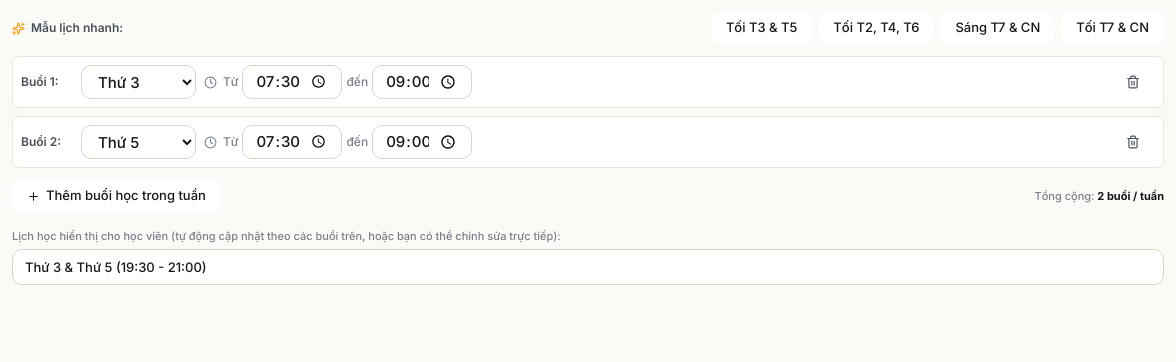
Scenario: LiveSchedulePicker UI interaction › allows adding a new session slot
Step 1. Click the button "Thêm buổi học trong tuần" → click(116, 196), box [12,180,221,212]
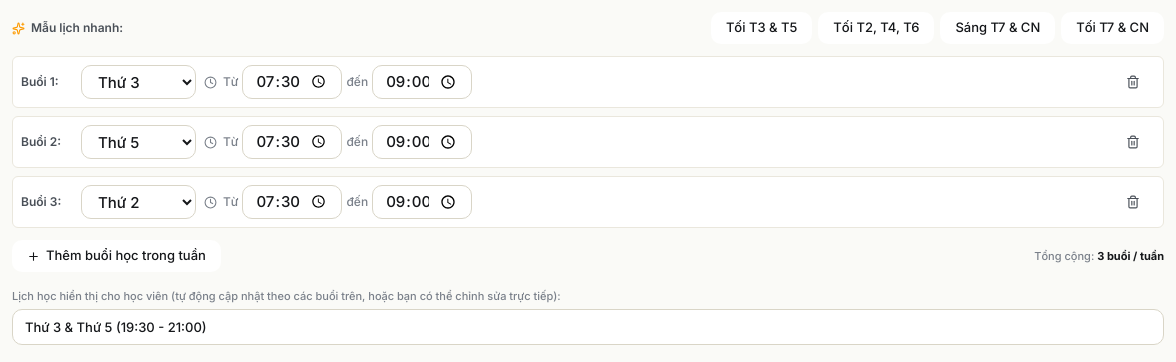
Expected: the text "Buổi 3:" is shown, [21,194,61,209]
